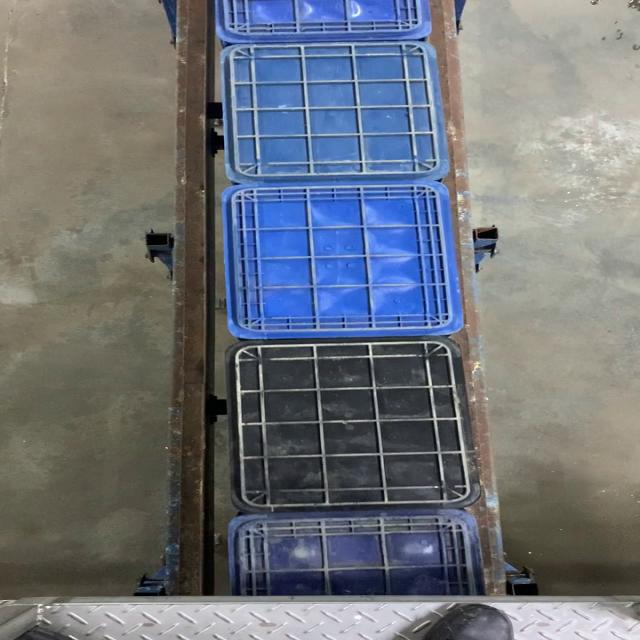Box: (224, 340, 484, 512), (223, 183, 464, 339), (218, 43, 452, 184)
